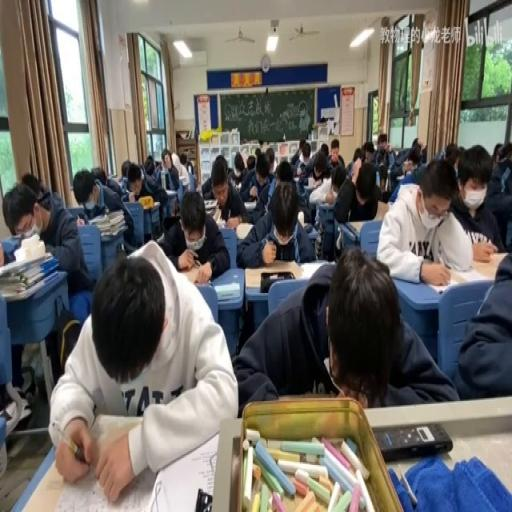calculator: (2, 233, 62, 297), (244, 263, 304, 289), (178, 262, 206, 283), (346, 218, 375, 236), (214, 280, 240, 300), (395, 181, 418, 202), (99, 220, 125, 234), (488, 249, 507, 267), (373, 198, 389, 219), (234, 222, 252, 240), (315, 199, 335, 215), (101, 208, 123, 222), (140, 196, 158, 209), (304, 225, 318, 240), (88, 213, 105, 225), (203, 196, 217, 209), (243, 199, 256, 212), (212, 206, 222, 222), (6, 230, 22, 240), (306, 175, 316, 188), (177, 174, 189, 184), (395, 172, 405, 179), (294, 176, 300, 181)
paper: (52, 238, 237, 499), (232, 245, 453, 411), (376, 158, 474, 283), (452, 245, 512, 401), (235, 175, 315, 266), (160, 189, 228, 282), (74, 165, 138, 257), (331, 161, 380, 229), (484, 147, 512, 253), (133, 156, 169, 225), (390, 136, 424, 188), (202, 152, 232, 199), (370, 131, 392, 169), (21, 170, 44, 200), (326, 138, 344, 173), (230, 149, 246, 188), (292, 142, 310, 176), (442, 144, 460, 168), (118, 158, 132, 188), (274, 159, 293, 181), (166, 165, 180, 193), (263, 146, 276, 176), (178, 151, 192, 175), (90, 165, 106, 185), (361, 140, 374, 164), (376, 164, 387, 192), (332, 178, 344, 199), (314, 159, 326, 179), (256, 166, 268, 185), (144, 154, 155, 174), (492, 141, 503, 161), (418, 140, 427, 164), (350, 146, 361, 164), (162, 150, 171, 170), (319, 141, 328, 158), (171, 198, 179, 216), (410, 154, 420, 168), (246, 155, 254, 171), (254, 145, 262, 158), (138, 165, 144, 181), (298, 140, 304, 154)
person: (373, 422, 451, 461), (194, 488, 211, 509), (154, 158, 160, 168)
